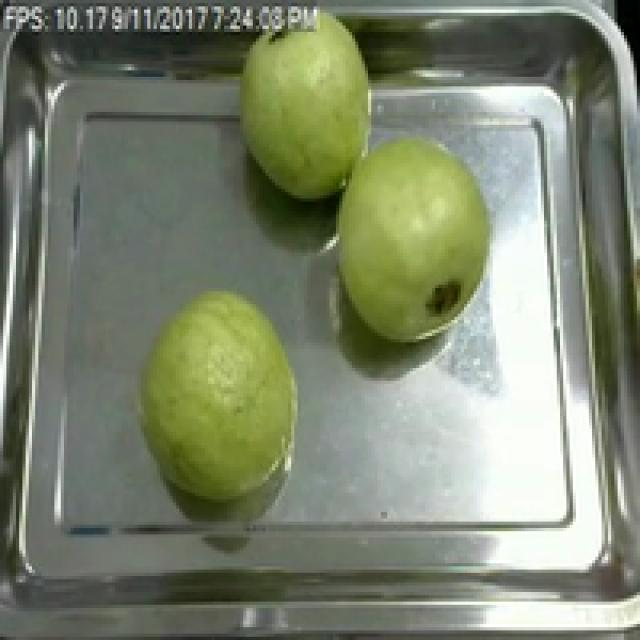Fruit: (323, 125, 506, 352), (132, 278, 310, 509), (227, 7, 384, 212)
